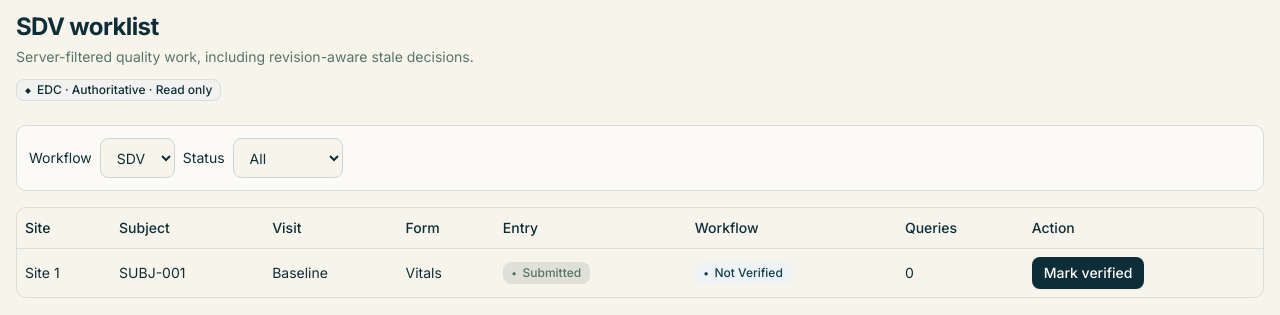
Test case: Phase 2 workflow controls › marks an SDV worklist form verified and refreshes its workflow state
The width and height of the screenshot is (1280, 315).
Click the button "Mark verified" at [1088, 272], box top-left (1032, 256), bottom-right (1144, 288)
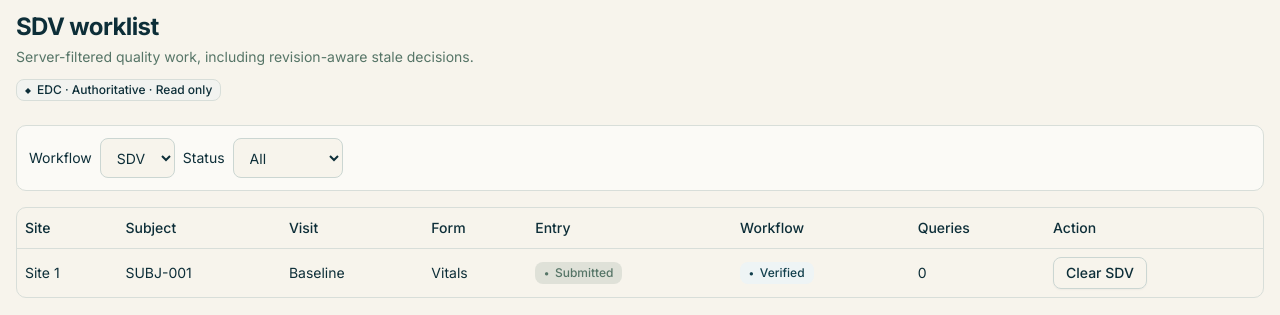
Expected: the button "Clear SDV" is shown, top-left (1053, 256), bottom-right (1147, 288)
